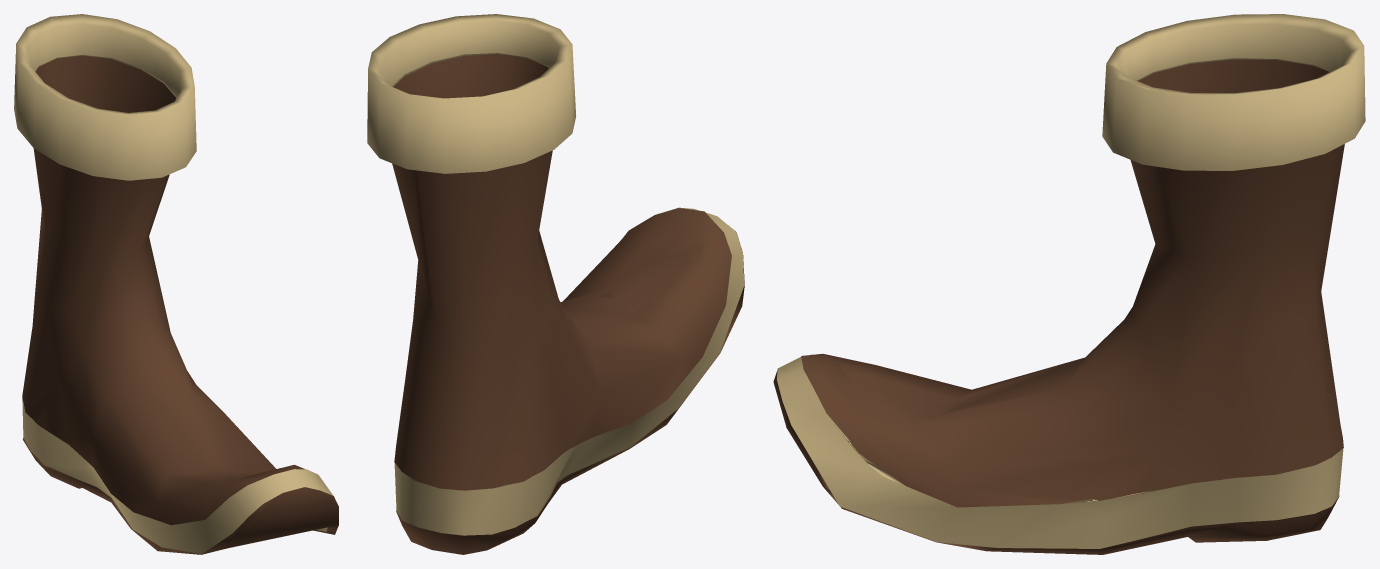
Rendered from mesh_sevenleague.glb.
3 views of the same model, side by side, from view 1: azimuth 30°, elevation 25°; view 2: azimuth 150°, elevation 25°; view 3: azimuth 270°, elevation 25° (orthographic). The views are drawn at different scales.
Visible parts, largest first — view 1: Boots_0; view 2: Boots_0; view 3: Boots_0.
Boxes of the visible parts, bbox=[...] form: Boots_0: bbox=[14, 14, 338, 554]; Boots_0: bbox=[367, 14, 744, 554]; Boots_0: bbox=[773, 14, 1365, 554].
Bounding box in the file's own units: 1.44 × 3.92 × 4.41.
